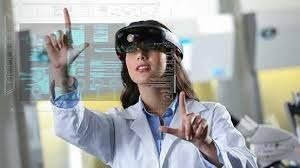person without safety: (39, 5, 262, 168)
